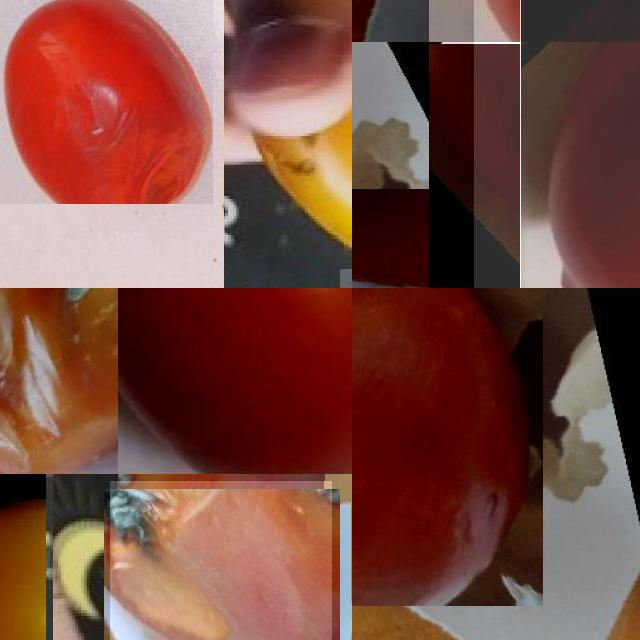Fresh Tomato: (474, 0, 640, 288), (118, 288, 352, 474)
Rotten Tomato: (352, 288, 543, 606), (0, 0, 213, 204), (224, 0, 352, 288), (110, 481, 332, 640), (352, 189, 429, 288)
